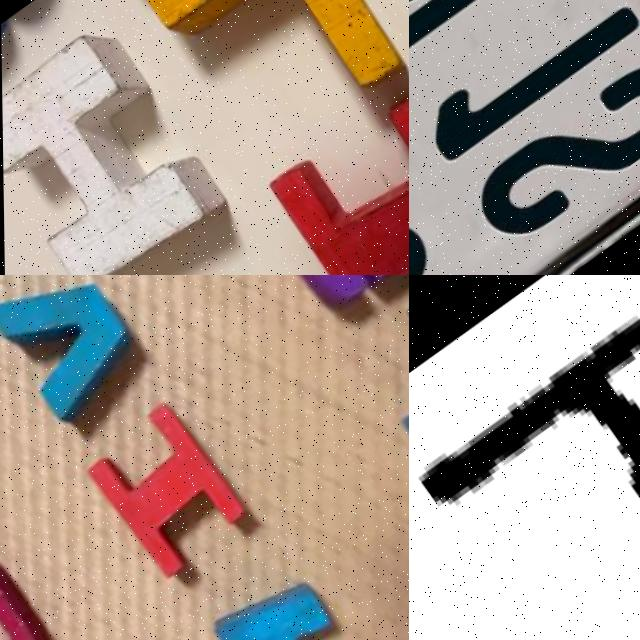1: (412, 0, 640, 172)
G: (242, 275, 409, 326)
H: (0, 22, 218, 275)
I: (81, 403, 256, 592), (266, 86, 409, 275)
J: (353, 296, 409, 478)
K: (409, 275, 640, 640)
L: (122, 0, 408, 174)
N: (409, 0, 576, 72)
P: (206, 567, 383, 640)
S: (459, 54, 640, 262)
V: (0, 275, 149, 427)
